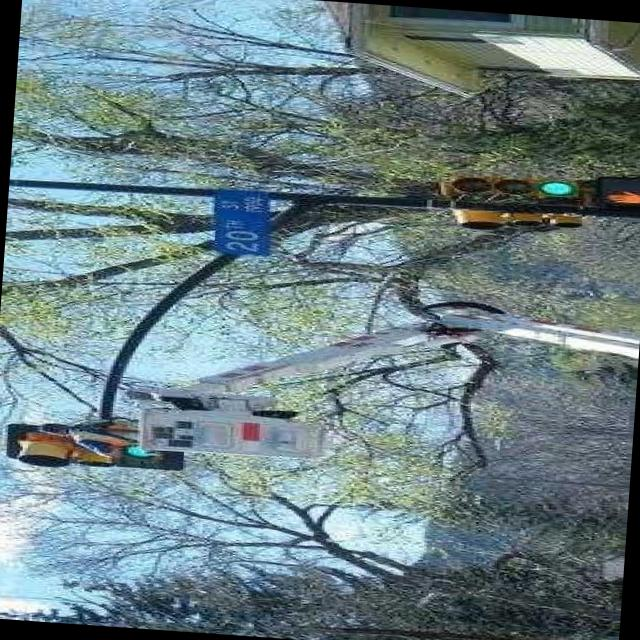green-lights: (113, 420, 174, 476)
